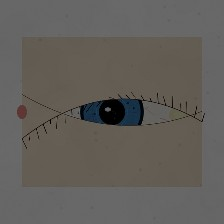pinguecula_lesion: (158, 98, 200, 132)
